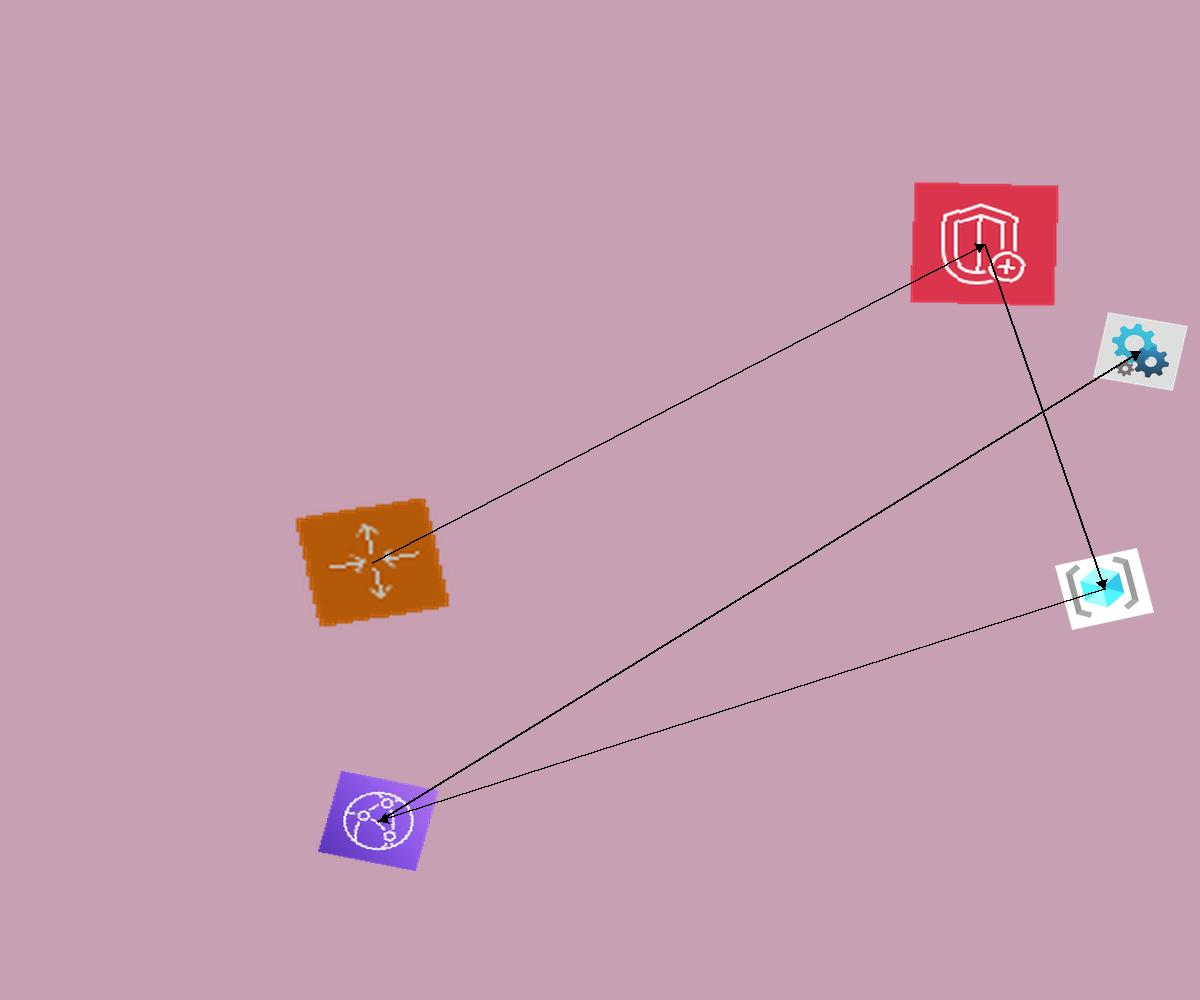AWS-CloudFront: (317, 770, 440, 872)
AWS-Scaling-group: (293, 496, 452, 629)
AWS-Shield: (909, 181, 1060, 307)
Azure_api: (1093, 312, 1188, 391)
Azure_resource_group: (1055, 548, 1154, 630)
